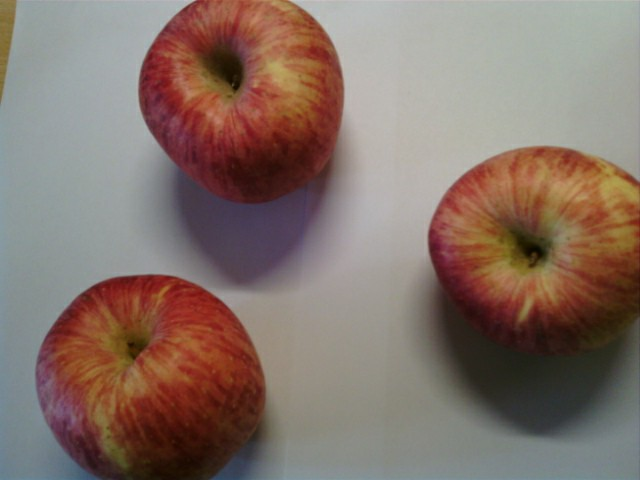normal_apple: (31, 269, 267, 480), (426, 144, 640, 349), (137, 3, 346, 203)
